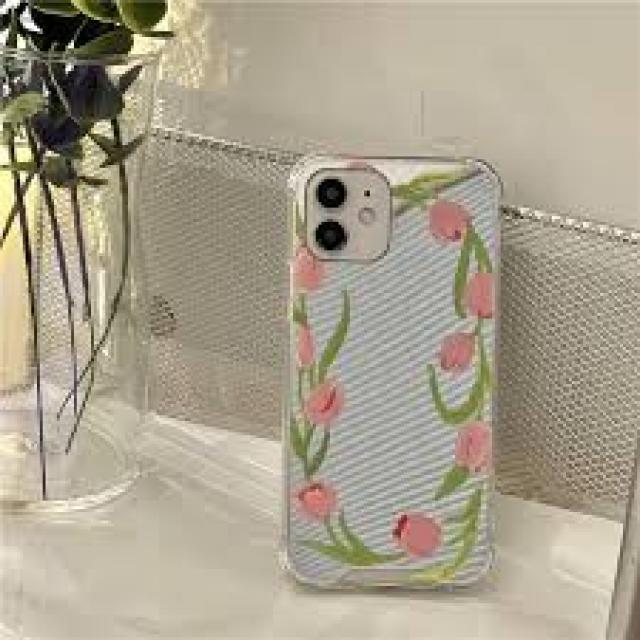Phone: (278, 147, 504, 598)
